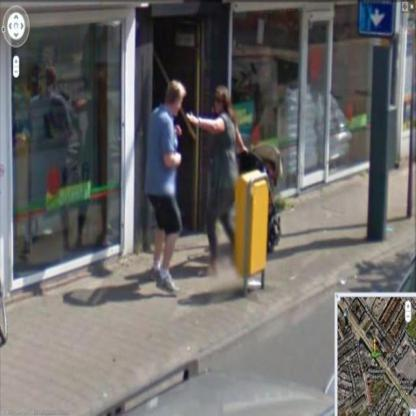face: (175, 95, 185, 117), (216, 96, 224, 113), (24, 85, 32, 101), (41, 69, 47, 87)
